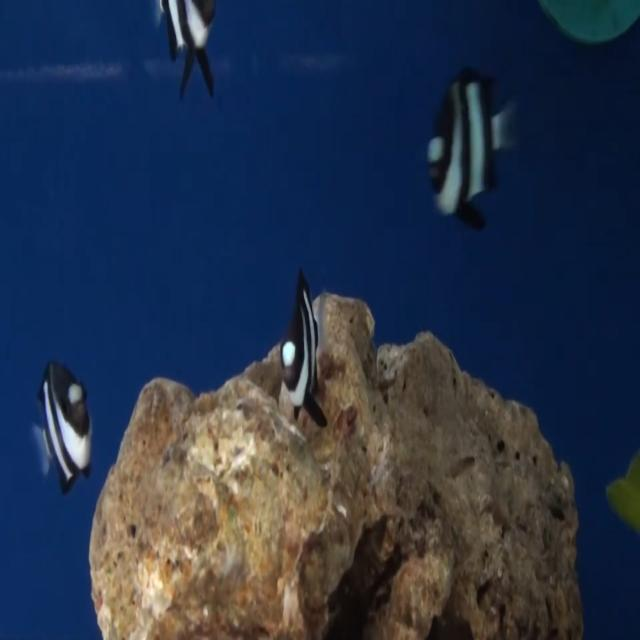ThreeStripedDamselfish: (427, 68, 518, 231), (277, 269, 328, 428), (34, 361, 93, 495)
